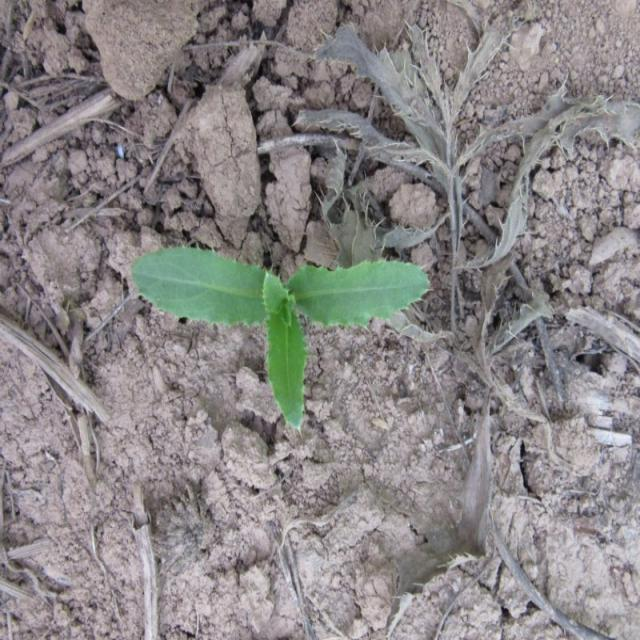field_thistle: (125, 221, 422, 455)
